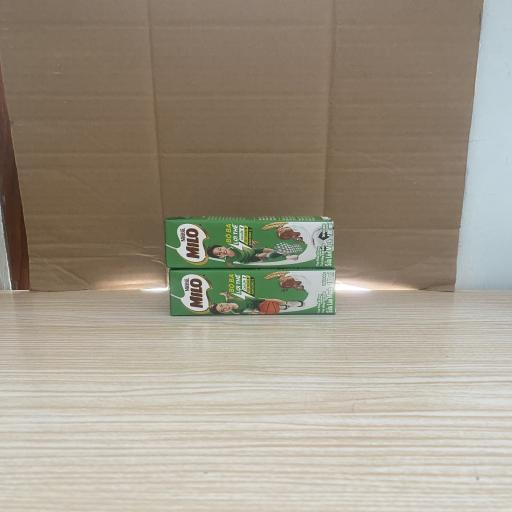milo: (164, 216, 334, 268), (168, 266, 336, 316)
